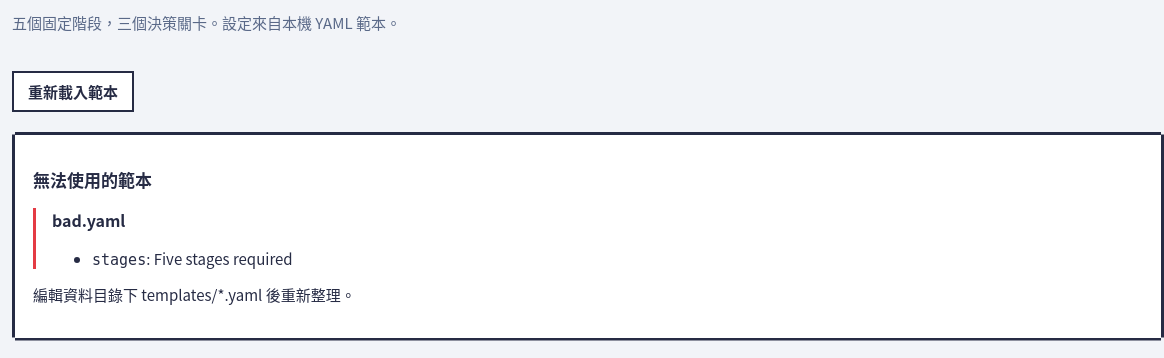
Test: invalid templates show file and field errors, and refresh reloads edited YAML
Expected: the element with test id "template-errors" shows "bad.yaml", [52,208,125,232]
Step 1. Click the button with test id "templates-refresh" → (73, 91), box [12,70,134,112]
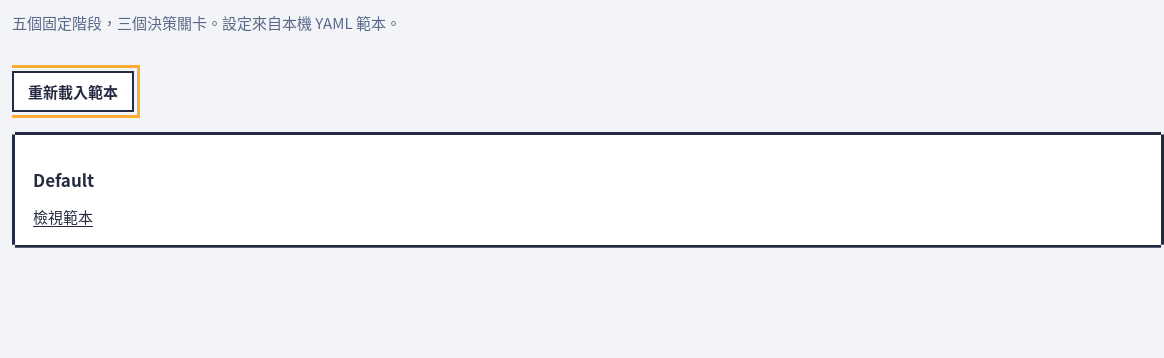
Expected: the link with test id "template-default" is shown, [33,206,93,227]
Expected: the element with test id "template-errors" is gone
